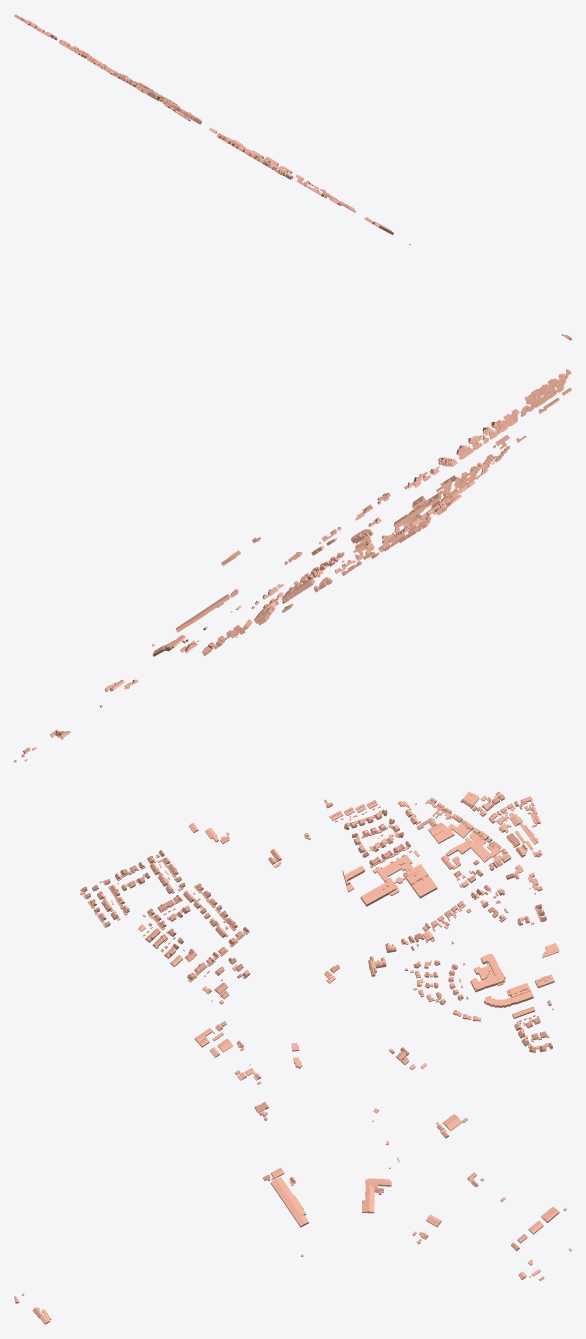
The picture shows the model from 3 angles, top to bottom: view 1: azimuth 30°, elevation 25°; view 2: azimuth 150°, elevation 25°; view 3: azimuth 270°, elevation 25°; orthographic projection. The views are drawn at different scales.
Bounding box in the file's own units: 1065 × 762 × 1189.
